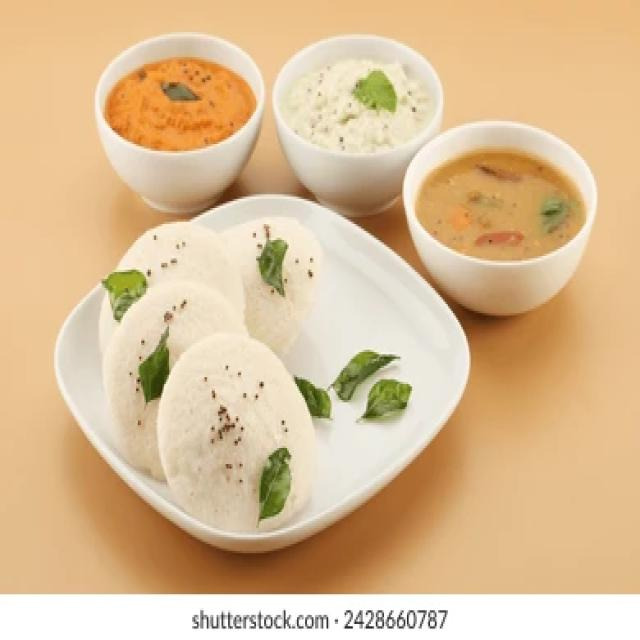IDLI: (156, 333, 312, 535), (101, 281, 230, 482), (105, 218, 247, 338), (241, 224, 326, 359)
